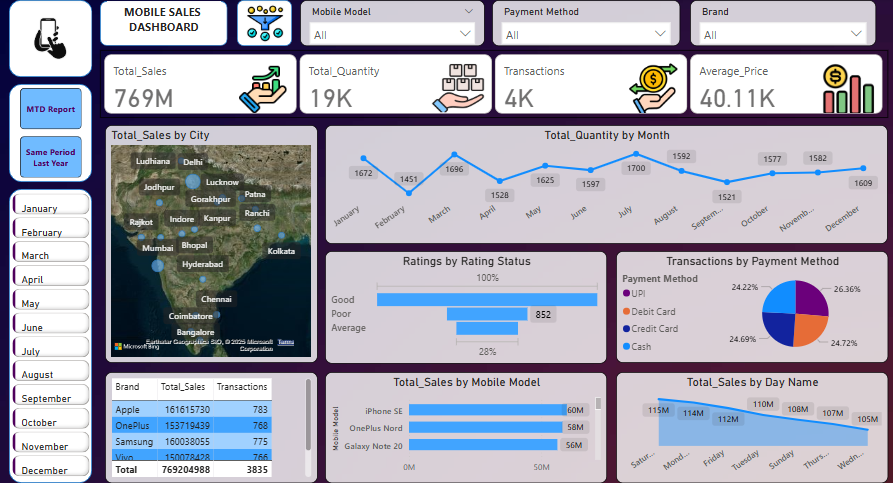

This screenshot's page, from the dashboard's own definition file:
{"tool":"powerbi","page":{"name":"Dashboard","canvas":[1280,720],"ordinal":0},"visuals":[{"type":"shape","box":[13.2,11.8,119,110.2],"z":0},{"type":"image","box":[12.9,11.4,118.6,110],"z":1000},{"type":"shape","box":[12.9,131.4,118.6,140],"z":2000},{"type":"shape","box":[12.9,281.4,118.6,420],"z":3000},{"type":"advancedSlicerVisual","fields":{"Values":["Custom_Calendar.Date.Variation.Date Hierarchy.Month"]},"box":[12.9,282.9,120,418.6],"z":4000},{"type":"cardVisual","fields":{"Data":["sales_data.Total_Sales","sales_data.Total_Quantity","sales_data.Transactions","sales_data.Average_Price"]},"box":[142.9,82.9,1125.7,97.1],"z":5000},{"type":"slicer","fields":{"Values":["sales_data.Mobile Model"]},"box":[428.6,11.4,264.3,65.7],"z":6000},{"type":"slicer","fields":{"Values":["sales_data.Payment Method"]},"box":[702.9,11.4,268.6,65.7],"z":7000},{"type":"slicer","fields":{"Values":["sales_data.Brand"]},"box":[985.7,11.4,265.7,65.7],"z":8000},{"type":"shape","box":[338.6,11.4,78.6,65.7],"z":9000},{"type":"image","box":[335.7,12.9,85.7,64.3],"z":10000},{"type":"shape","box":[142.9,12.9,182.9,64.3],"z":11000},{"type":"textbox","box":[152.9,12.9,162.9,54.3],"z":12000},{"type":"map","fields":{"Category":["sales_data.City"],"Size":["sales_data.Total_Sales"]},"box":[150,190,304.3,340],"z":13000},{"type":"lineChart","fields":{"Category":["Custom_Calendar.Date.Variation.Date Hierarchy.Month"],"Y":["sales_data.Total_Quantity"]},"box":[464.3,190,804.3,170],"z":14000},{"type":"funnel","title":"Ratings by Rating Status","fields":{"Y":["CountNonNull(sales_data.Customer Ratings)"],"Category":["sales_data.Rating Status"]},"box":[464.3,370,402.9,161.4],"z":15000},{"type":"pieChart","fields":{"Category":["sales_data.Payment Method"],"Y":["sales_data.Transactions"]},"box":[880,370,388.6,160],"z":16000},{"type":"clusteredBarChart","fields":{"Y":["sales_data.Total_Sales"],"Category":["sales_data.Mobile Model"]},"box":[464.3,542.9,402.9,158.6],"z":17000},{"type":"areaChart","fields":{"Category":["Custom_Calendar.Day Name"],"Y":["sales_data.Total_Sales"]},"box":[880,542.9,388.6,158.6],"z":18000},{"type":"tableEx","fields":{"Values":["sales_data.Brand","sales_data.Total_Sales","sales_data.Transactions"]},"box":[150,542.9,304.3,158.6],"z":19000},{"type":"pageNavigator","box":[28.6,137.1,88.6,128.6],"z":20000}]}

Visuals, with their boxes on the page's 1280x720 design canvas (x1, y1, x2, y2). These are canvas units, not pixel positions in the 893x483 screenshot, which may show the page scaled, cropped or inside an application window:
shape: 13, 12, 132, 122
image: 13, 11, 132, 121
shape: 13, 131, 132, 271
shape: 13, 281, 132, 701
advancedSlicerVisual - Custom_Calendar.Date.Variation.Date Hierarchy.Month: 13, 283, 133, 702
cardVisual - sales_data.Total_Sales x sales_data.Total_Quantity: 143, 83, 1269, 180
slicer - sales_data.Mobile Model: 429, 11, 693, 77
slicer - sales_data.Payment Method: 703, 11, 972, 77
slicer - sales_data.Brand: 986, 11, 1251, 77
shape: 339, 11, 417, 77
image: 336, 13, 421, 77
shape: 143, 13, 326, 77
textbox: 153, 13, 316, 67
map - sales_data.City x sales_data.Total_Sales: 150, 190, 454, 530
lineChart - Custom_Calendar.Date.Variation.Date Hierarchy.Month x sales_data.Total_Quantity: 464, 190, 1269, 360
"Ratings by Rating Status" funnel: 464, 370, 867, 531
pieChart - sales_data.Payment Method x sales_data.Transactions: 880, 370, 1269, 530
clusteredBarChart - sales_data.Total_Sales x sales_data.Mobile Model: 464, 543, 867, 702
areaChart - Custom_Calendar.Day Name x sales_data.Total_Sales: 880, 543, 1269, 702
tableEx - sales_data.Brand x sales_data.Total_Sales: 150, 543, 454, 702
pageNavigator: 29, 137, 117, 266
